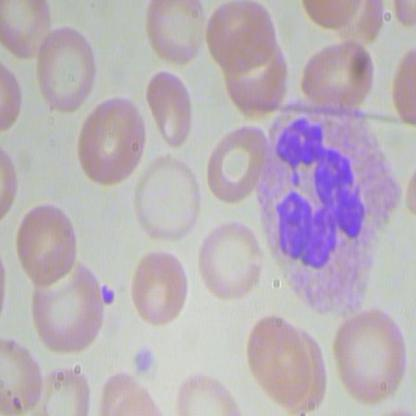Platelets: (130, 344, 158, 380), (96, 283, 116, 308)
RBC: (28, 253, 108, 361), (328, 306, 411, 407), (241, 312, 318, 415), (75, 94, 149, 192), (133, 153, 205, 249), (195, 214, 267, 305), (296, 39, 382, 113), (31, 22, 96, 119), (204, 120, 273, 208), (15, 199, 81, 289), (201, 1, 275, 75), (125, 244, 188, 330), (145, 1, 206, 70), (147, 62, 192, 150)
WBC: (246, 96, 402, 321)
